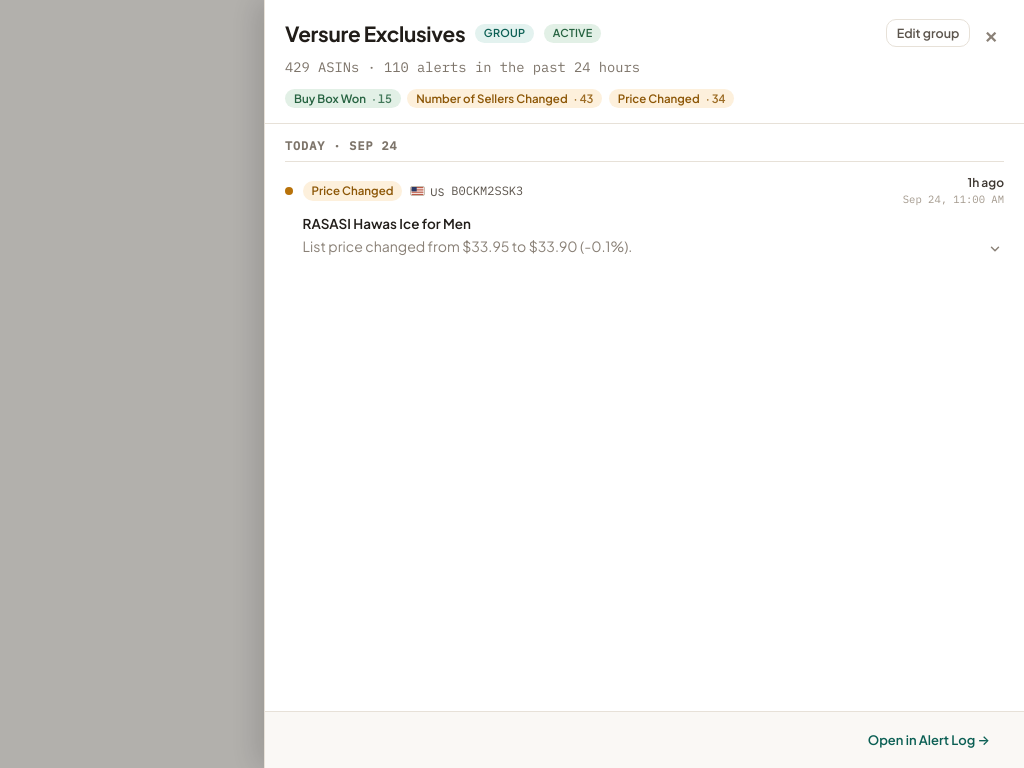
it: GroupAlertsPanel › offers to expand a message that is cut off, and to collapse it again
Click the button named "Show more" at coordinates (995, 249), box [987,240,1004,258]
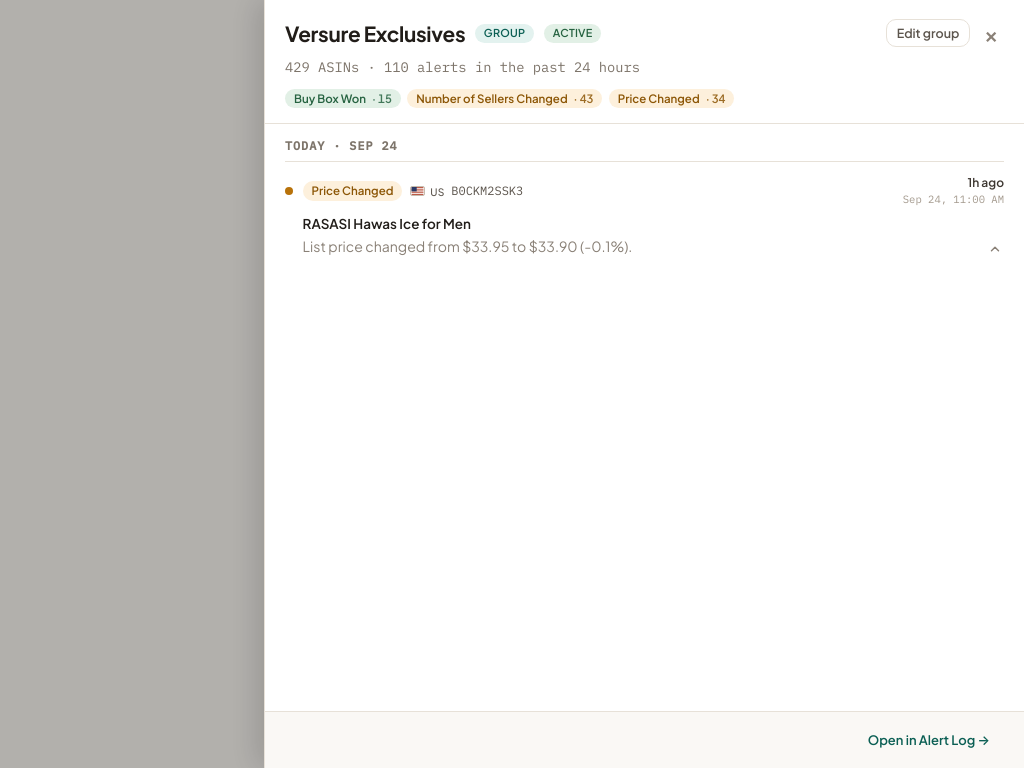
Result: the button named "Show less" is shown at [987,240,1004,258]
